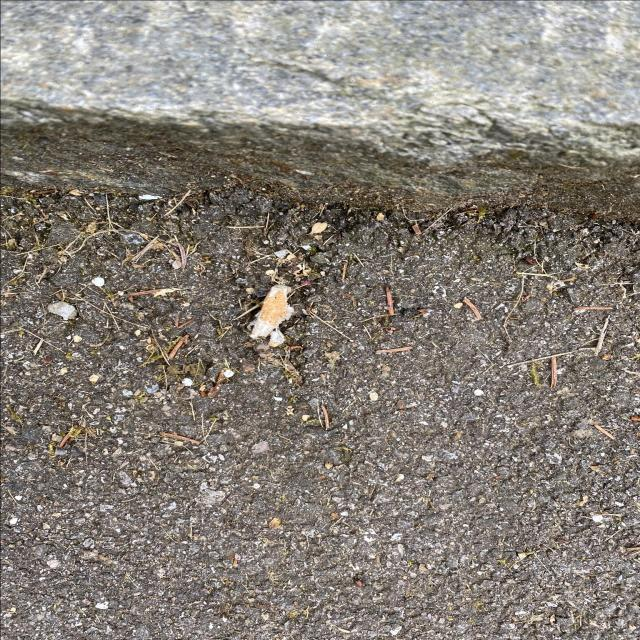other waste: (248, 284, 294, 347)
